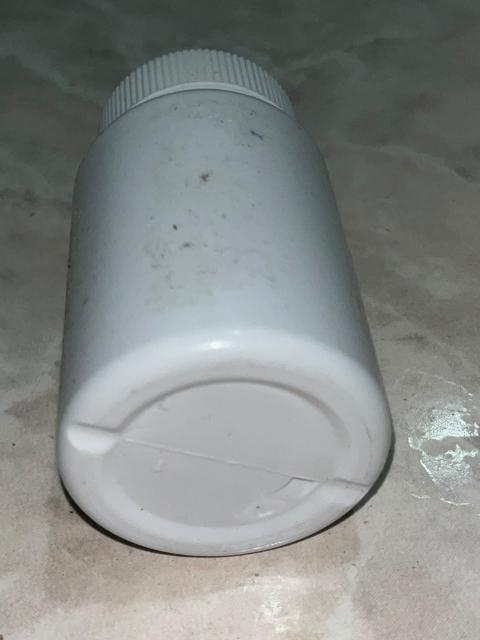HDPE: (59, 51, 400, 525)
